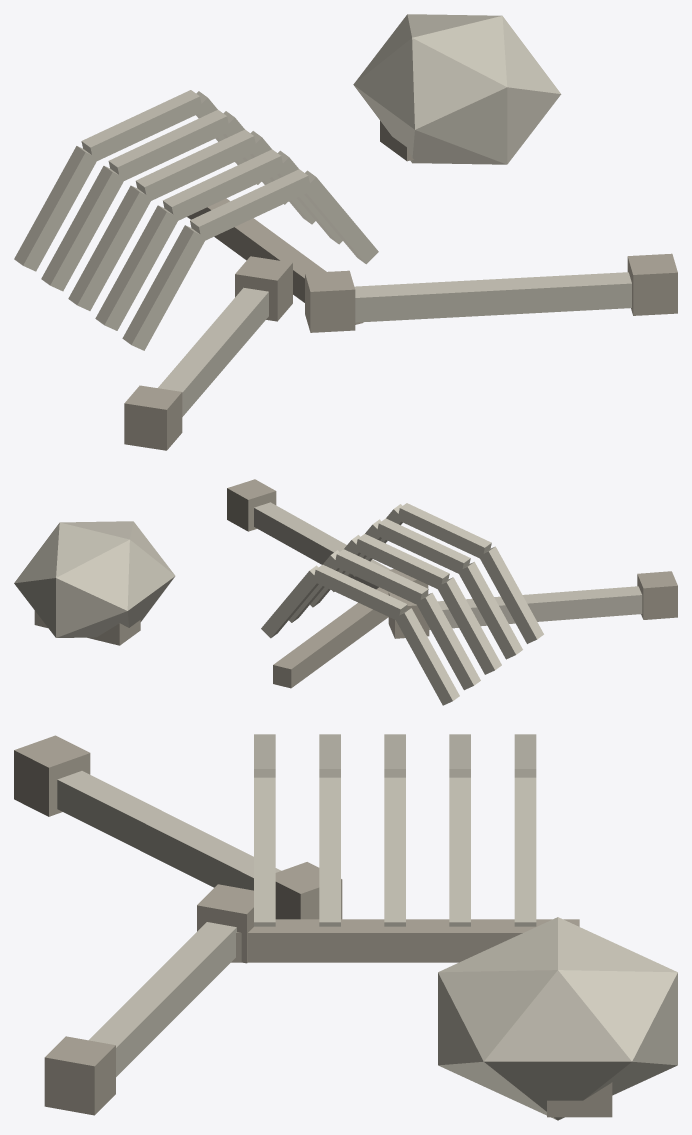
The model's file is bones.glb.
3 renders of one model, top to bottom at view 1: azimuth 30°, elevation 25°; view 2: azimuth 150°, elevation 25°; view 3: azimuth 270°, elevation 25°, orthographic. The views are drawn at different scales.
Visible parts, largest first — view 1: prop.bones; view 2: prop.bones; view 3: prop.bones.
Part boxes in pixels (x1=…): prop.bones: x1=14, y1=14, x2=677, y2=450; prop.bones: x1=14, y1=479, x2=677, y2=705; prop.bones: x1=14, y1=734, x2=677, y2=1120.
Bounding box in the file's own units: 0.7865 × 0.1748 × 0.6118.
